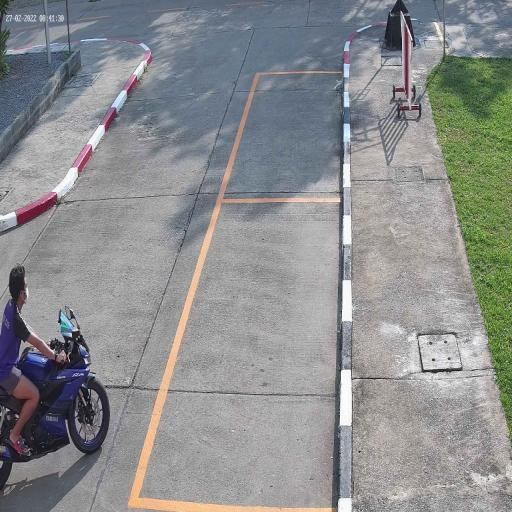motorcycle: (0, 330, 110, 487)
